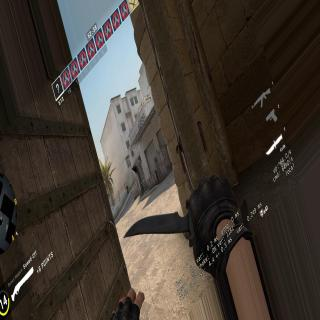CT-Body: (125, 185, 128, 194)
CT-Head: (125, 185, 126, 188)
